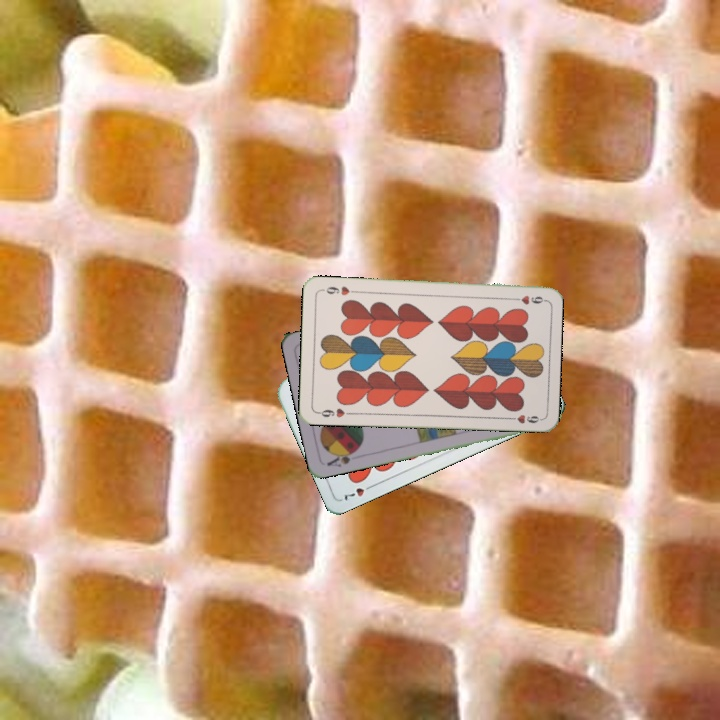H7: (340, 480, 377, 503)
H9: (314, 404, 354, 420), (506, 292, 546, 306)
SA: (323, 445, 361, 469)
